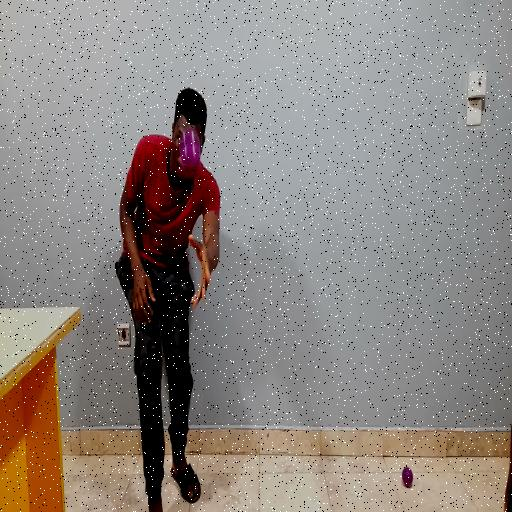plastic-ball: (180, 126, 200, 173)
